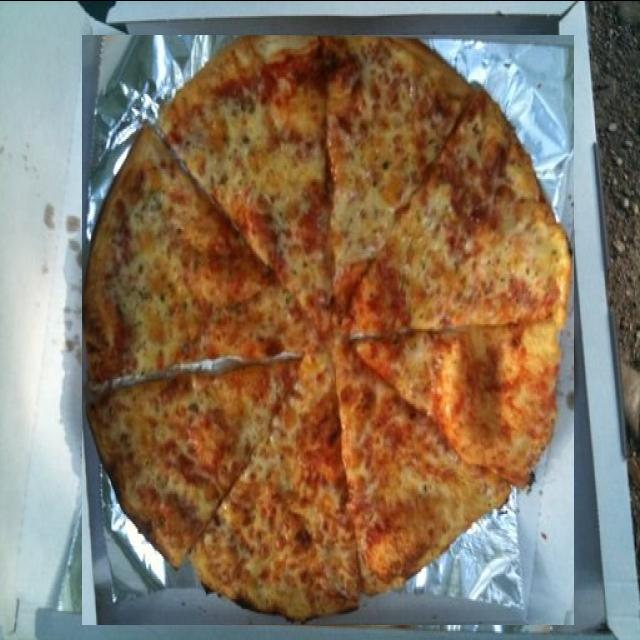pizza: (82, 34, 574, 624)
